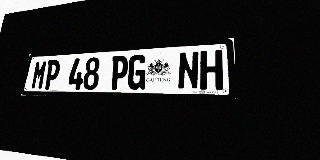4: (67, 58, 86, 90)
8: (82, 57, 101, 90)
G: (127, 54, 147, 90)
H: (200, 50, 223, 90)
M: (30, 60, 48, 89)
N: (177, 51, 199, 90)
P: (109, 55, 129, 90), (43, 59, 61, 89)
